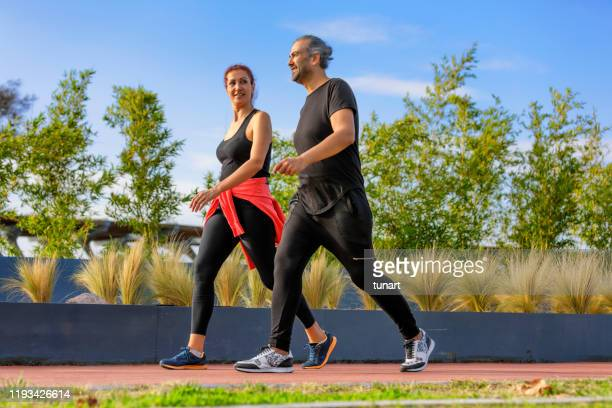face: (285, 33, 336, 86), (220, 62, 262, 110)
